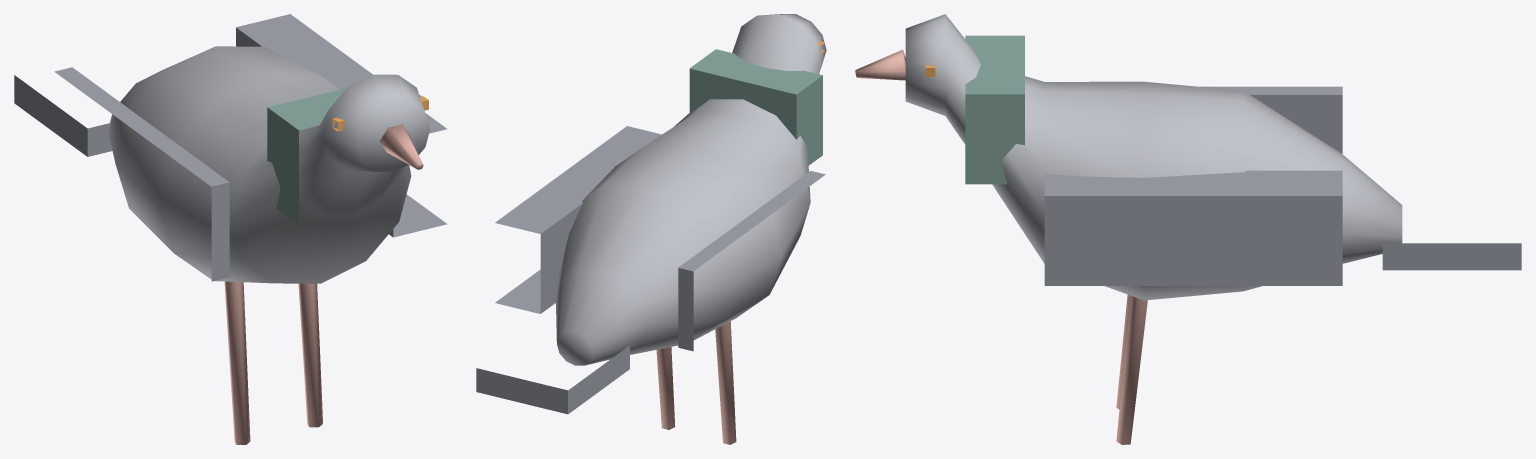
Rendered from pigeon.glb.
The picture shows the model from 3 angles, left to right: view 1: azimuth 30°, elevation 25°; view 2: azimuth 150°, elevation 25°; view 3: azimuth 270°, elevation 25°; orthographic projection. The views are drawn at different scales.
Parts seen in each view (by area): view 1: Pigeon; view 2: Pigeon; view 3: Pigeon.
Boxes of the visible parts, <box> form: Pigeon: <box>14,14,447,444</box>; Pigeon: <box>476,14,826,444</box>; Pigeon: <box>855,14,1521,444</box>.
Size of the model in its own units: 0.13 by 0.2255 by 0.3353.
